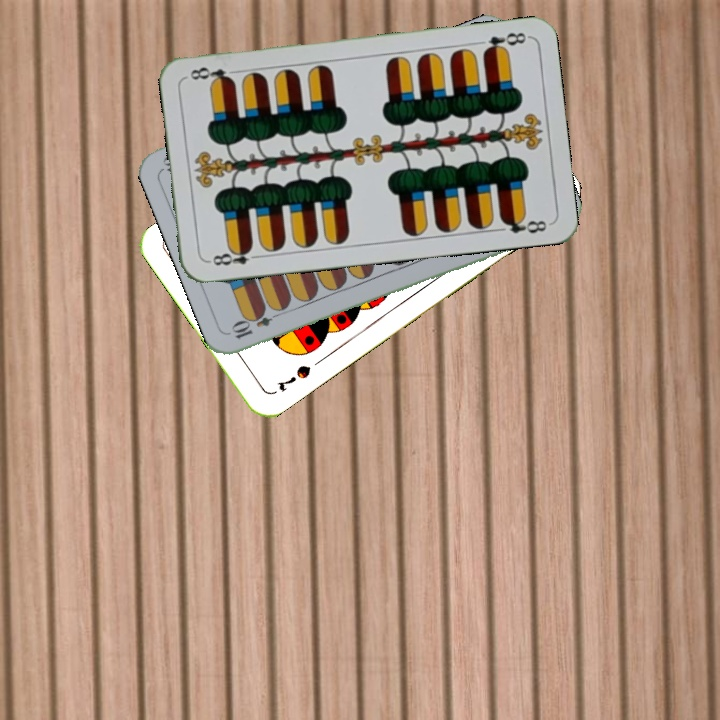E10: (228, 306, 285, 342)
E8: (204, 242, 263, 269), (479, 28, 530, 56)
S7: (273, 361, 314, 394)
